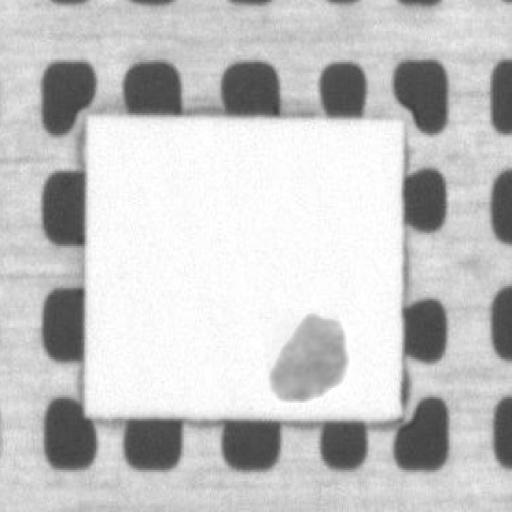DIE_INK: (269, 308, 346, 403)
